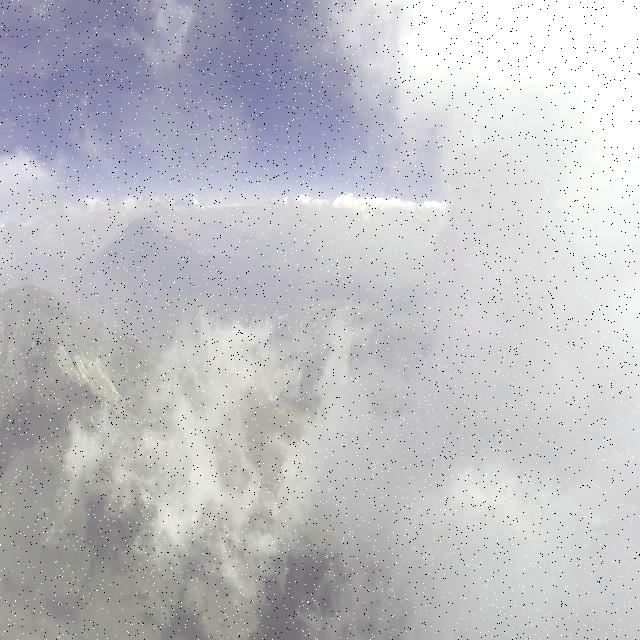Summit: (0, 279, 137, 438)
